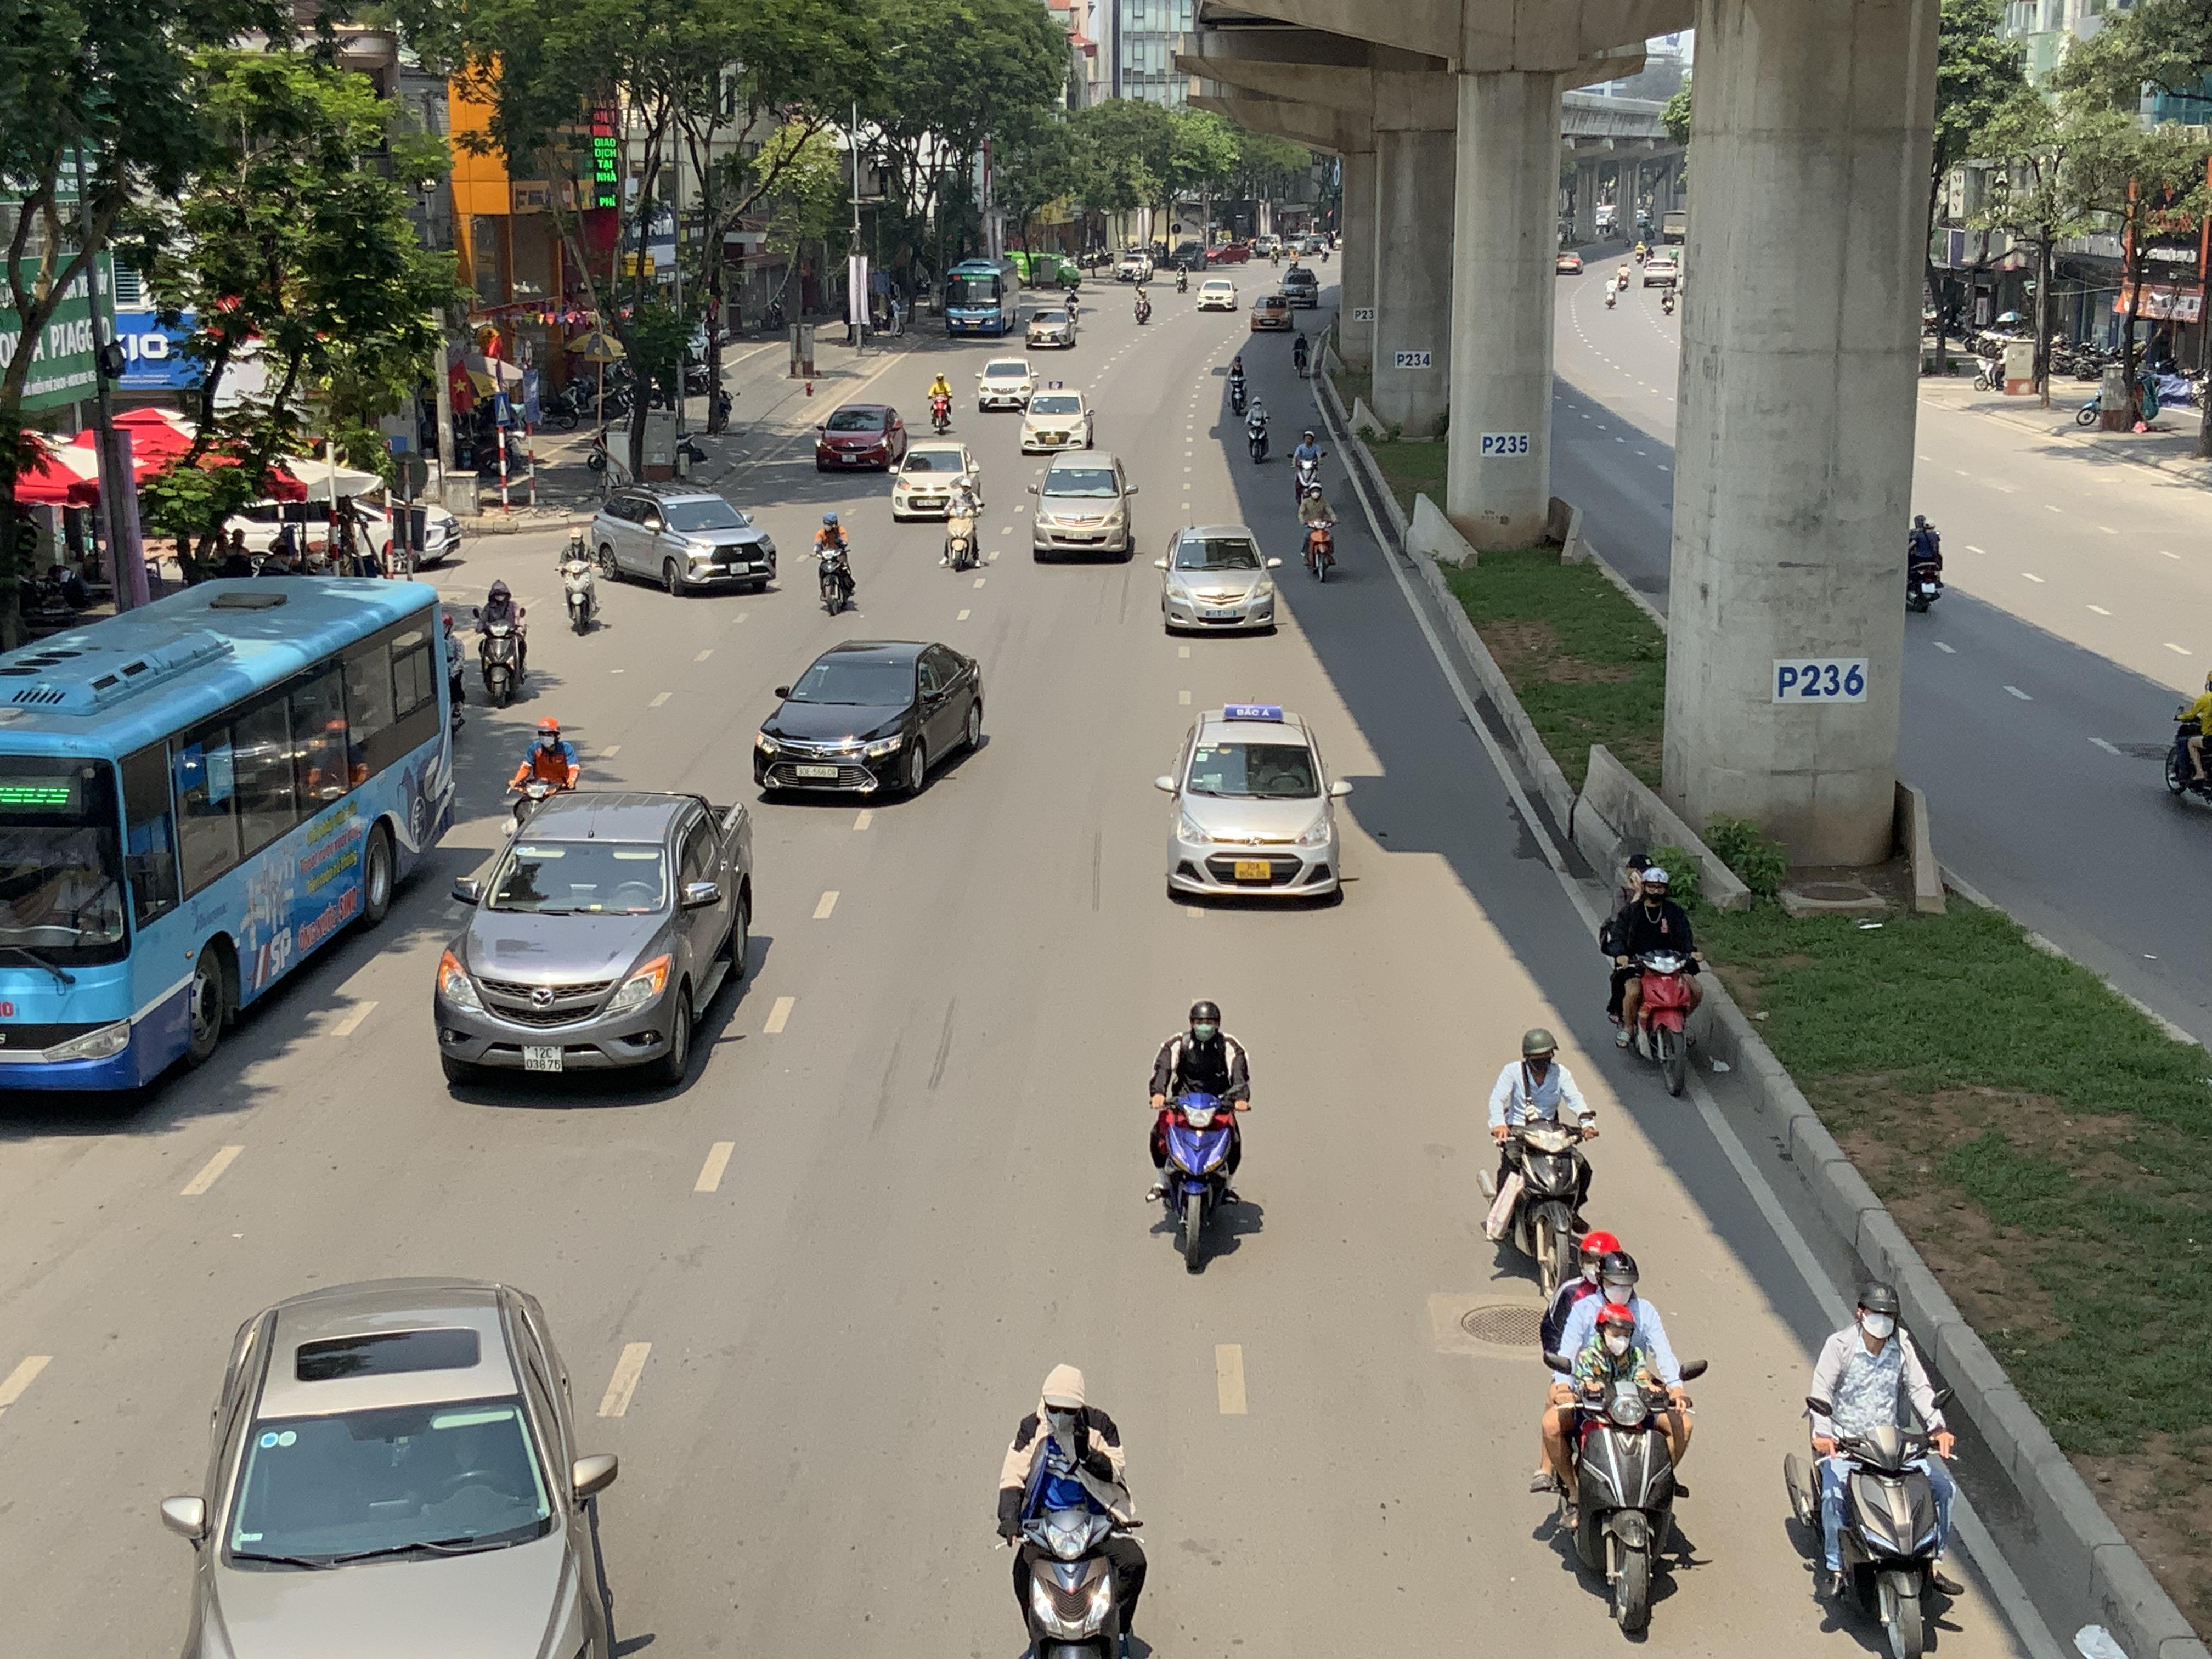BSD: (796, 765, 838, 777)
BSV: (524, 1046, 564, 1070), (1235, 861, 1271, 880)
bus: (2, 568, 463, 1096), (942, 254, 1017, 336)
car: (158, 1276, 646, 1659), (434, 786, 756, 1089), (1155, 702, 1350, 906), (752, 638, 989, 803), (590, 486, 779, 596), (1157, 526, 1282, 636), (1029, 450, 1137, 561), (888, 439, 982, 519), (813, 403, 909, 472), (1019, 389, 1096, 455), (975, 356, 1038, 411), (1024, 303, 1078, 349), (1197, 275, 1240, 310)
motorbike: (1534, 1229, 1705, 1643), (1784, 1283, 1963, 1659), (996, 1363, 1153, 1659), (1484, 1026, 1599, 1297), (1146, 999, 1252, 1276), (1601, 859, 1707, 1100), (505, 718, 583, 831), (2163, 666, 2212, 830), (474, 579, 529, 706), (557, 528, 604, 634), (813, 512, 857, 613), (1298, 483, 1339, 580), (941, 476, 982, 572), (1907, 511, 1944, 612), (1291, 425, 1325, 504), (1244, 394, 1271, 464), (1972, 342, 2010, 392), (1224, 359, 1249, 415)
